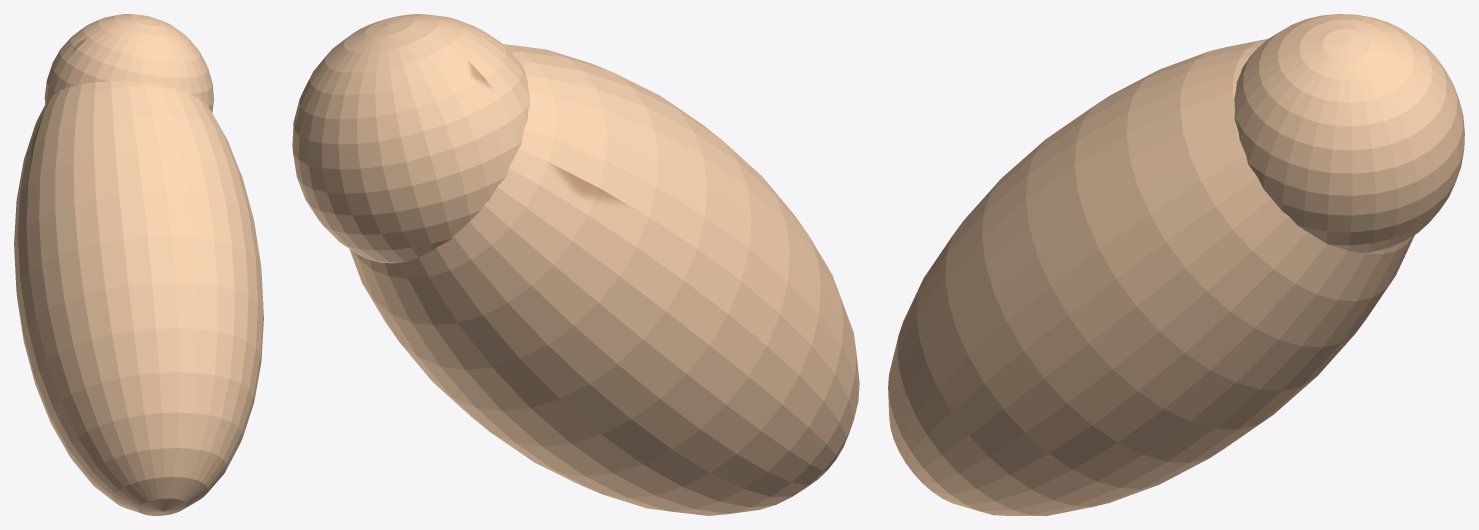
File: AntebrazoIzq_Arbitro.obj
3 views of the same model, side by side, from view 1: azimuth 30°, elevation 25°; view 2: azimuth 150°, elevation 25°; view 3: azimuth 270°, elevation 25° (orthographic). The views are drawn at different scales.
Visible parts, largest first — view 1: AntebrazoIzq_Arbitro; view 2: AntebrazoIzq_Arbitro; view 3: AntebrazoIzq_Arbitro.
Boxes of the visible parts, <box> form: AntebrazoIzq_Arbitro: <box>14,14,263,515</box>; AntebrazoIzq_Arbitro: <box>292,14,859,515</box>; AntebrazoIzq_Arbitro: <box>888,14,1464,515</box>.
Size of the model in its own units: 1.11 by 1.63 by 1.57.
1 material, 1 textured.
